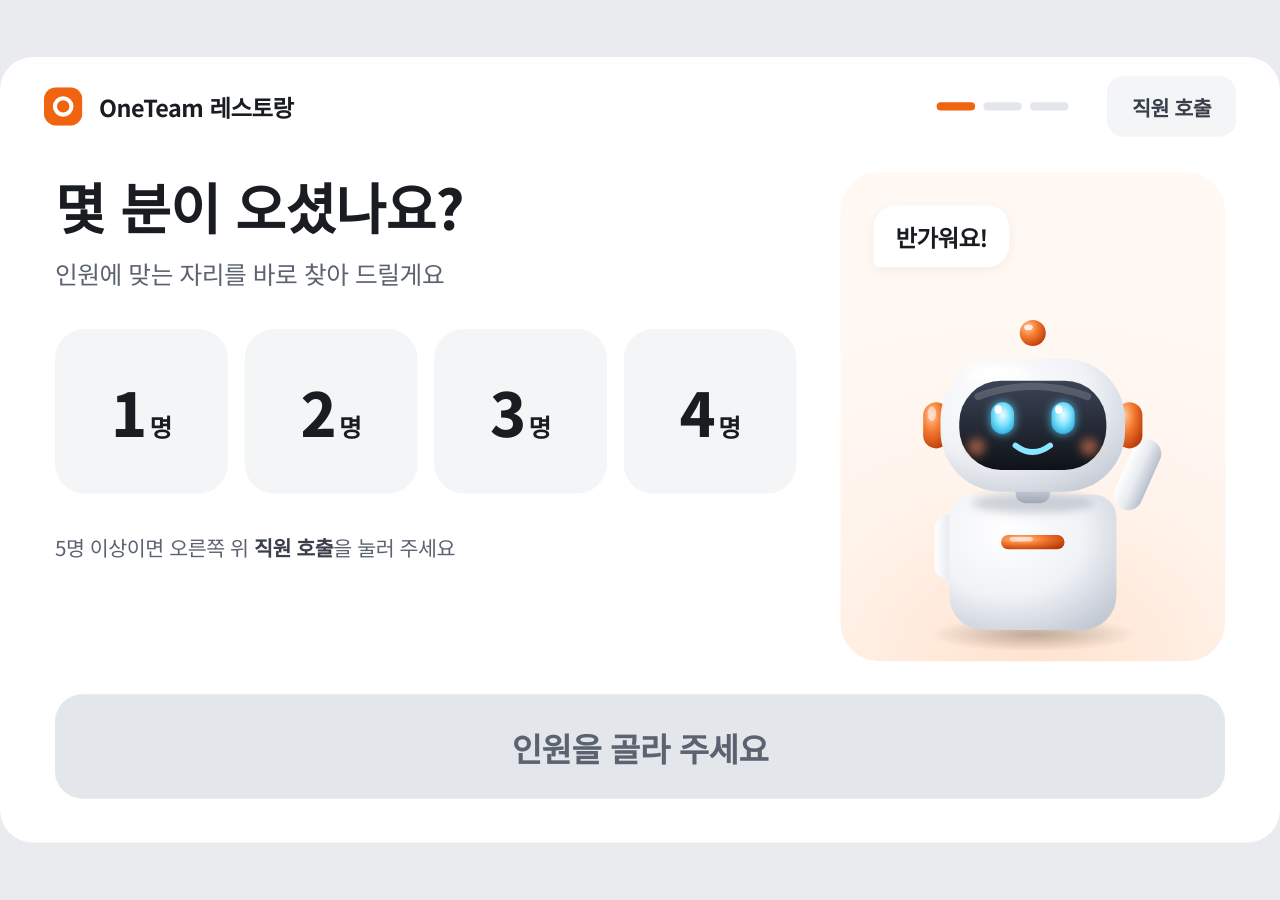
Test: 입구 키오스크 흐름 › 직원 호출을 누르면 알림이 뜬다
The image size is (1280, 900).
Step 1. Click the button "직원 호출" → (1172, 107), box [1107,76,1236,137]
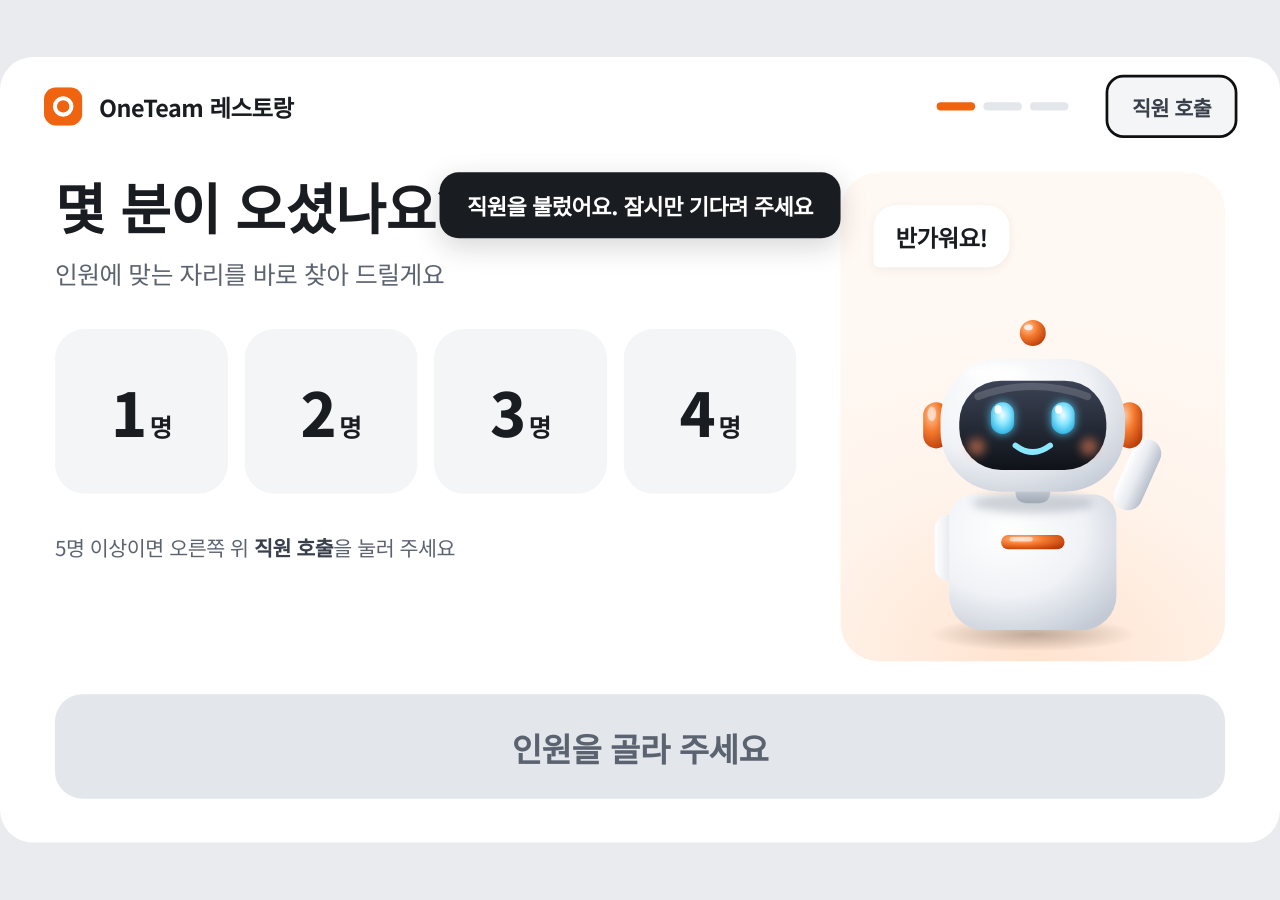
Now the message shows "직원을 불렀어요", box [467,189,813,222]
